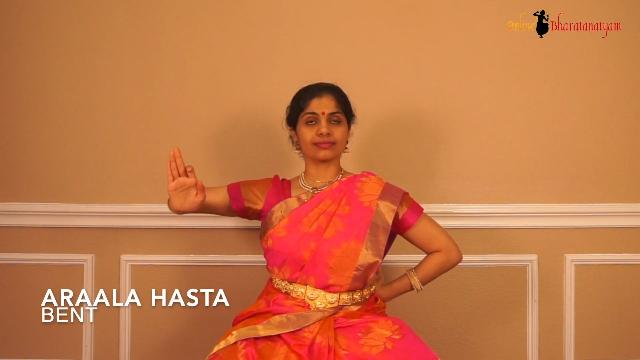aral: (130, 130, 226, 238)
